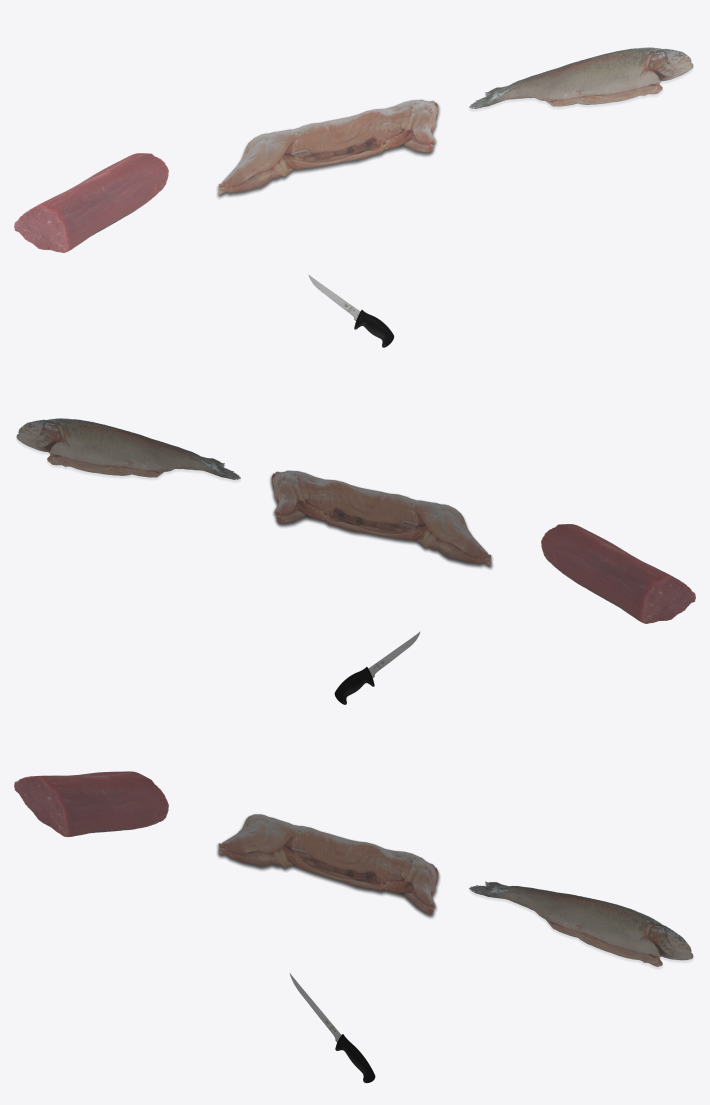
File: Game_Orientation2.glb
3 views of the same model, one above another, from view 1: azimuth 30°, elevation 25°; view 2: azimuth 150°, elevation 25°; view 3: azimuth 330°, elevation 25° (orthographic).
Parts seen in each view (by area): view 1: Rabbit, Beef, Fish, KnifeFish; view 2: Rabbit, Beef, Fish, KnifeFish; view 3: Rabbit, Beef, Fish, KnifeFish.
Part boxes in pixels (left/top/right/bottom): Rabbit: left=217, top=99, right=439, bottom=198; Beef: left=14, top=153, right=168, bottom=252; Fish: left=469, top=47, right=693, bottom=109; KnifeFish: left=308, top=274, right=394, bottom=347; Rabbit: left=270, top=470, right=492, bottom=569; Beef: left=541, top=524, right=695, bottom=623; Fish: left=16, top=418, right=240, bottom=479; KnifeFish: left=334, top=632, right=419, bottom=704; Rabbit: left=217, top=814, right=439, bottom=918; Beef: left=14, top=771, right=168, bottom=837; Fish: left=469, top=881, right=693, bottom=967; KnifeFish: left=290, top=973, right=375, bottom=1083.
Size of the model in its own units: 6.24 by 2.24 by 0.1496.
4 materials, 4 textured.
